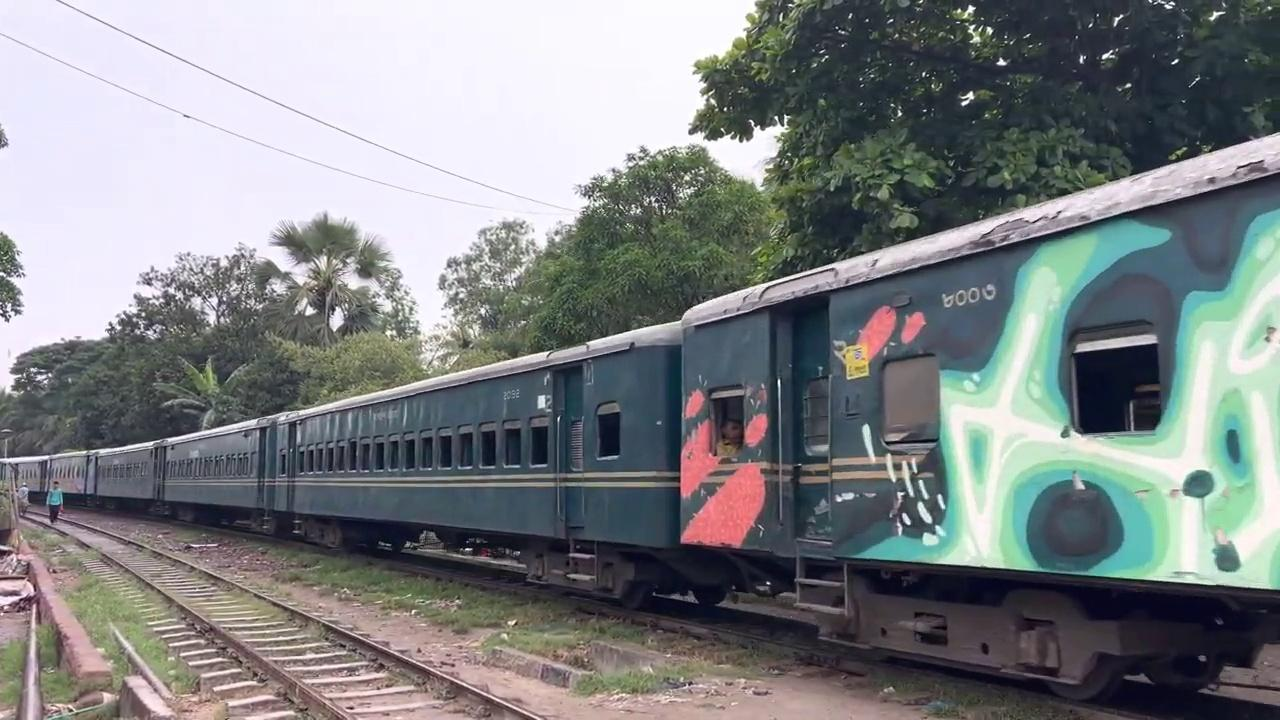Fence: (715, 417, 744, 457), (45, 480, 63, 524), (16, 482, 29, 517)
Garbage: (16, 597, 45, 719)
Garbage-bin: (1023, 473, 1125, 572)
Motorcycle: (16, 498, 544, 718)
Potted-plant: (1, 130, 1278, 707)
Railroad-crossing: (508, 142, 776, 353), (253, 209, 405, 347), (430, 216, 543, 370)
